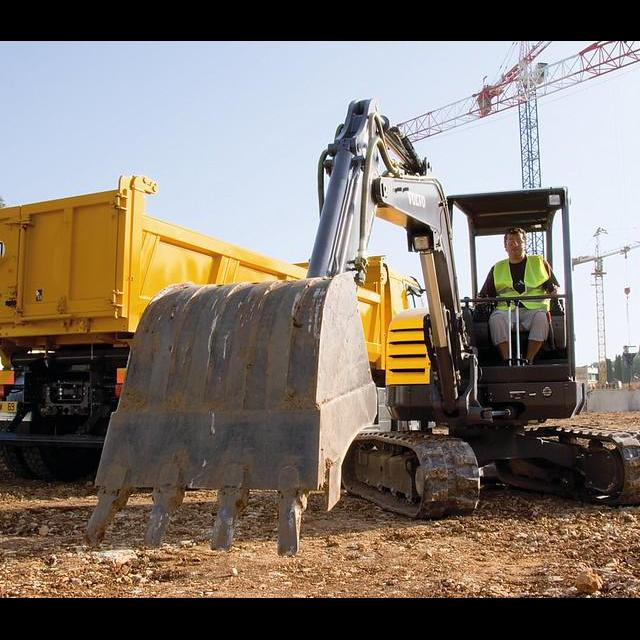Excavator: (89, 94, 640, 556)
NO-Hardhat: (504, 228, 524, 236)
NO-Mask: (508, 248, 525, 259)
NO-Safety Vest: (491, 256, 550, 306)
Person: (474, 226, 559, 364)
dump truck: (0, 173, 429, 487)
